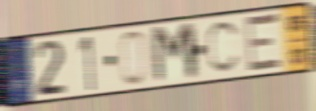0: (118, 28, 150, 89)
1: (79, 34, 96, 93)
2: (34, 38, 68, 99)
C: (206, 19, 242, 76)
E: (244, 11, 284, 75)
M: (150, 20, 201, 87)
